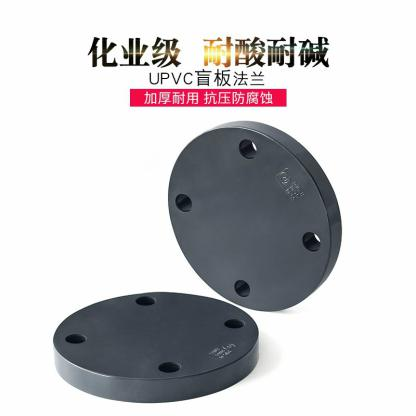FOD: (162, 110, 348, 317), (45, 286, 264, 407)
